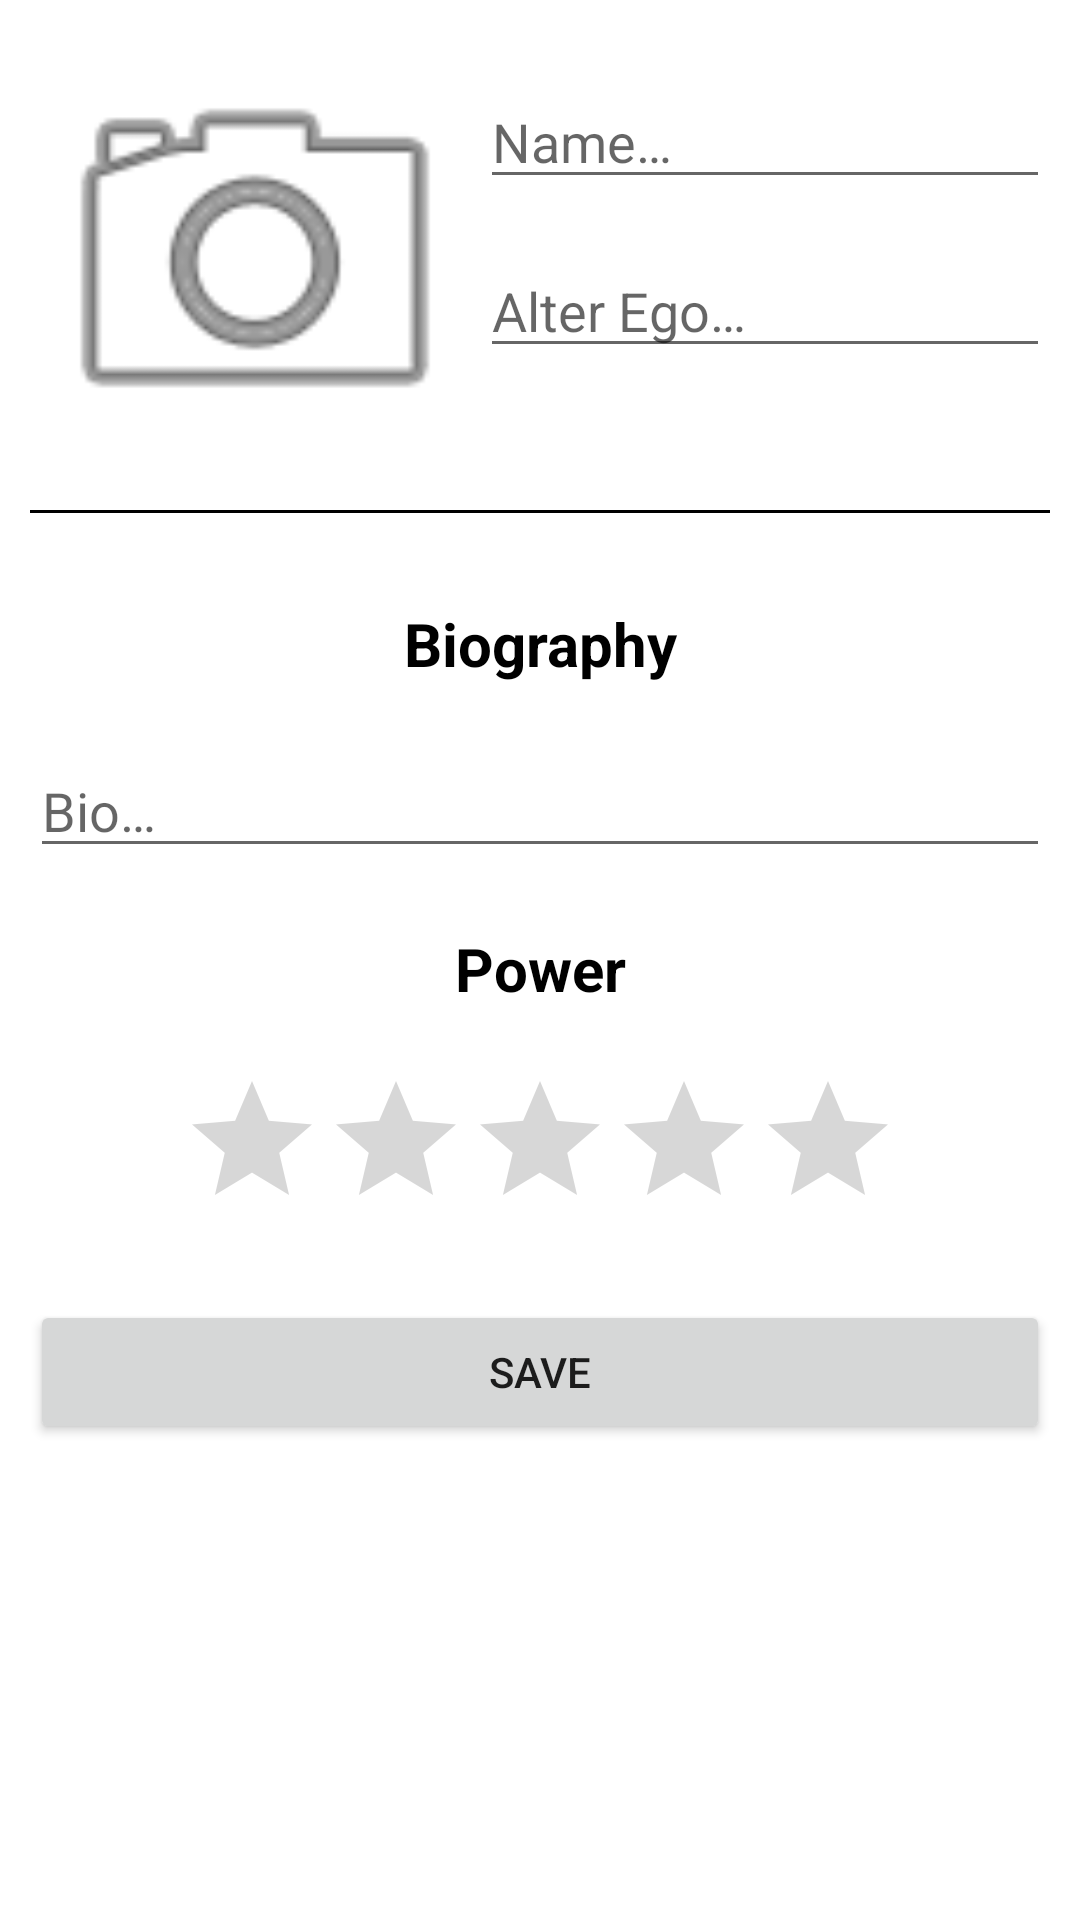

Where to tap for icons on this 1080 x 1920 app screen, as (x,y):
camera: (255,248)
